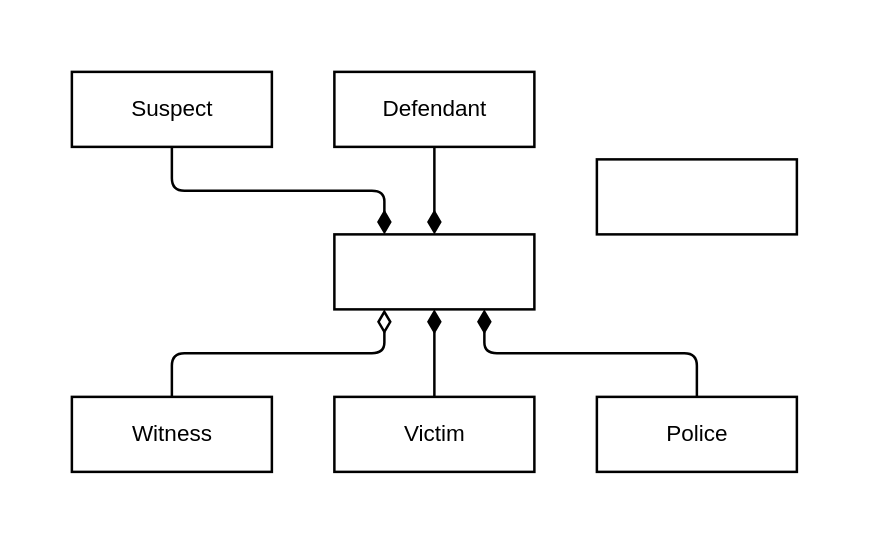
Some shapes in this 869 by 544 pixel diagram are drawn without their labels. The shapes that lost their labels are listed below. From the top down, each one's centre as x and y in pixels, then its label:
At (696,196): "CaseMaterials".
At (433,271): "Case".
